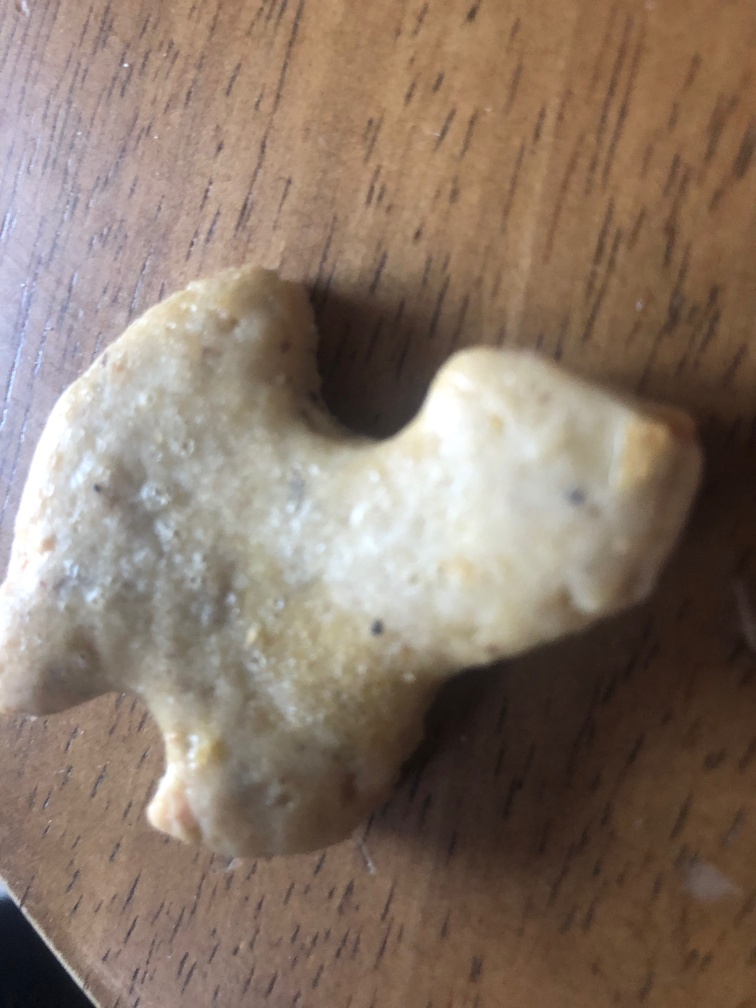lamb: (2, 256, 716, 863)
